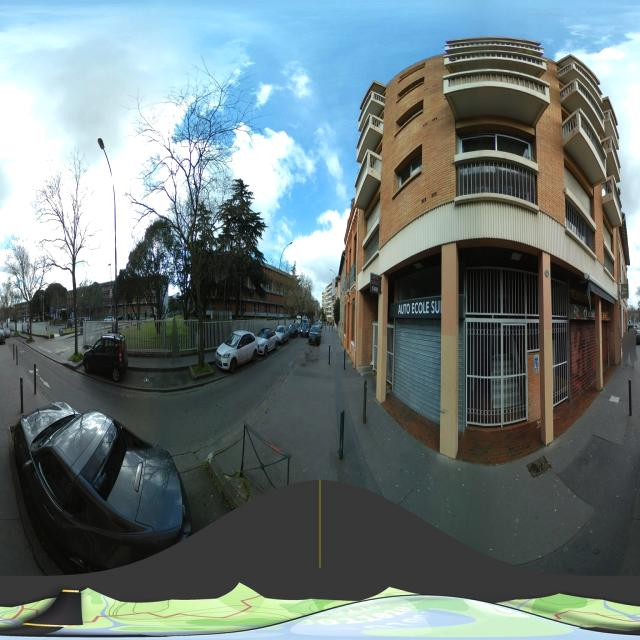car: (82, 334, 126, 382), (215, 329, 258, 373), (256, 326, 277, 353), (308, 324, 321, 346), (276, 324, 288, 344), (287, 320, 296, 338), (302, 318, 310, 337), (0, 324, 5, 346)
